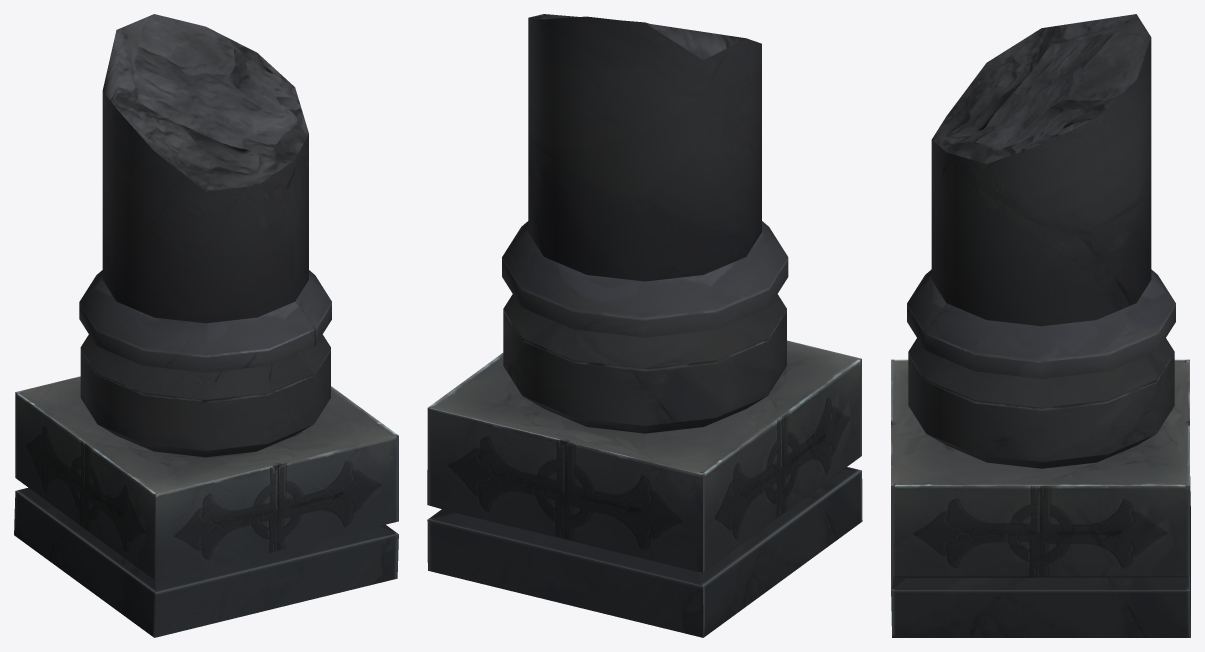
Rendered from object_pillar_broken.FBX.
The picture shows the model from 3 angles, left to right: view 1: azimuth 30°, elevation 25°; view 2: azimuth 150°, elevation 25°; view 3: azimuth 270°, elevation 25°; orthographic projection. The views are drawn at different scales.
Visible parts, largest first — view 1: objPillar; view 2: objPillar; view 3: objPillar.
Boxes of the visible parts, x1,y1,x2,y2 form: objPillar: (14, 14, 398, 637); objPillar: (427, 14, 862, 637); objPillar: (891, 14, 1190, 637).
Bounding box in the file's own units: 142 × 280 × 142.
Materials: 1 (1 with a texture image).
